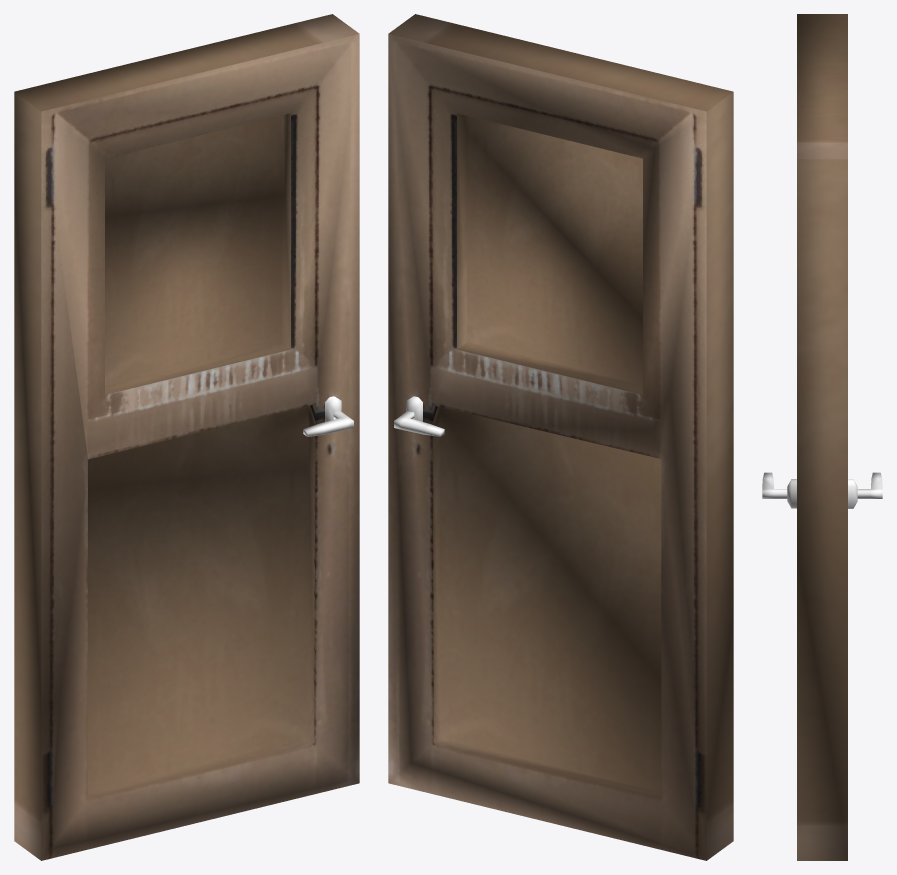
The model's file is door_a.glb.
3 views of the same model, side by side, from view 1: azimuth 30°, elevation 25°; view 2: azimuth 150°, elevation 25°; view 3: azimuth 270°, elevation 25° (orthographic). The views are drawn at different scales.
Parts seen in each view (by area): view 1: door.jpg__, stk_darkGrayMetal_a.png__; view 2: door.jpg__, stk_darkGrayMetal_a.png__; view 3: door.jpg__, stk_darkGrayMetal_a.png__.
Part boxes in pixels (x1,y1,x2,y2): door.jpg__: [14, 14, 359, 860]; stk_darkGrayMetal_a.png__: [303, 396, 353, 436]; door.jpg__: [388, 14, 733, 860]; stk_darkGrayMetal_a.png__: [394, 396, 444, 436]; door.jpg__: [797, 14, 847, 860]; stk_darkGrayMetal_a.png__: [762, 472, 882, 508].
Bounding box in the file's own units: 3.17 × 7.14 × 1.11.
Materials: 2 (1 with a texture image).
